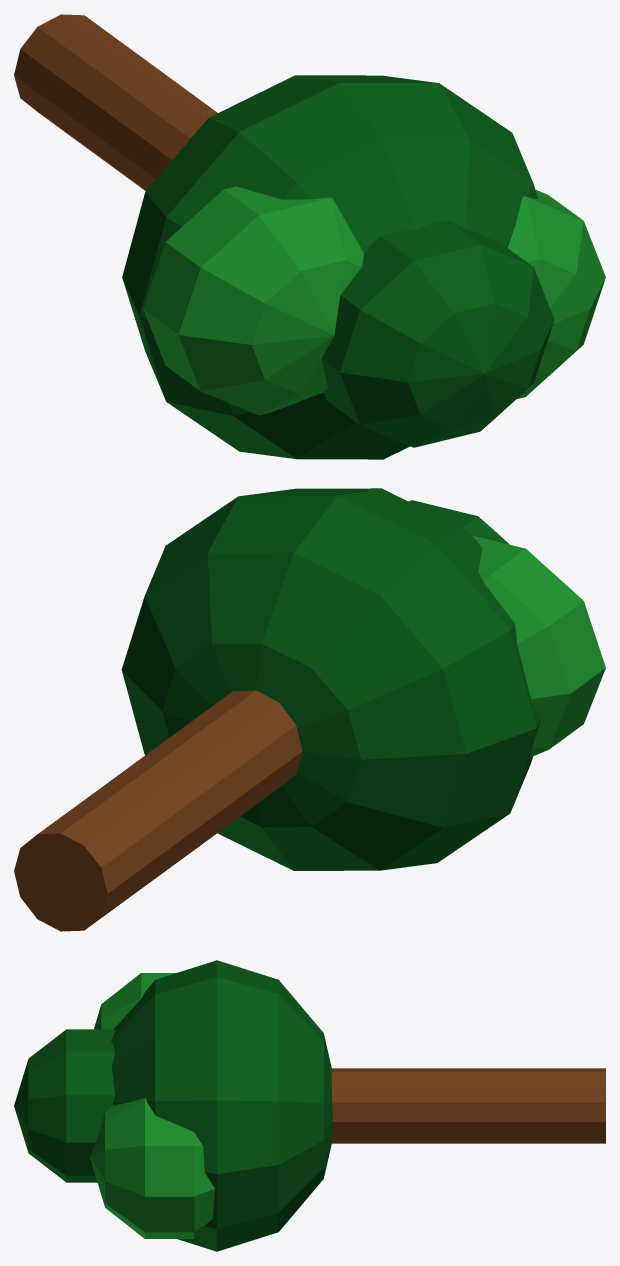
File: tree.obj
3 renders of one model, top to bottom at view 1: azimuth 30°, elevation 25°; view 2: azimuth 150°, elevation 25°; view 3: azimuth 270°, elevation 25°, orthographic. The views are drawn at different scales.
Visible parts, largest first — view 1: XYT_generated; view 2: XYT_generated; view 3: XYT_generated.
Boxes of the visible parts, x1,y1,x2,y2 form: XYT_generated: [14, 14, 605, 459]; XYT_generated: [14, 488, 605, 931]; XYT_generated: [14, 960, 605, 1251].
Size of the model in its own units: 1.83 by 1.5 by 3.12.
